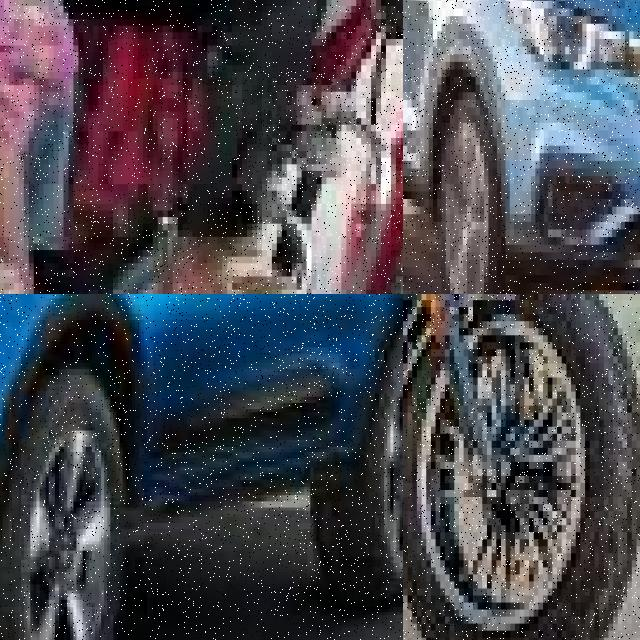bike: (0, 0, 403, 294), (403, 294, 640, 640)
car: (0, 294, 403, 640), (403, 0, 640, 290)
